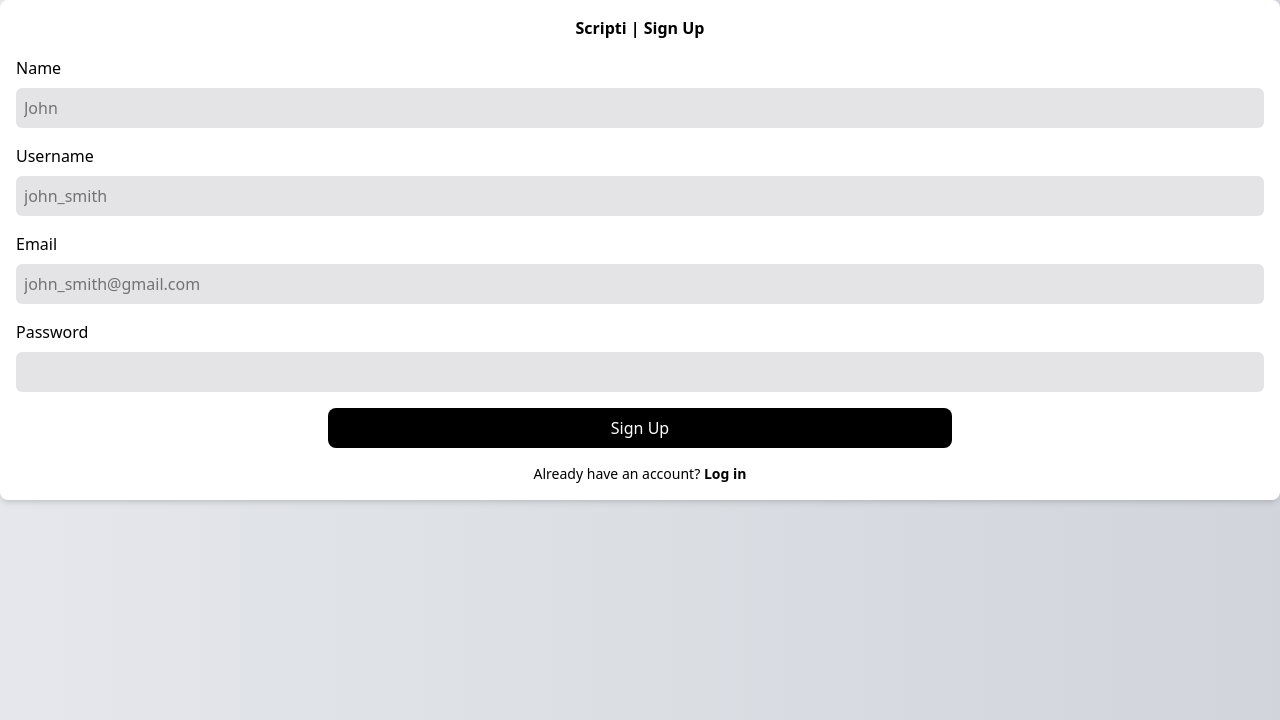
Scenario: signup page: messages › should display error message for missing fields
The width and height of the screenshot is (1280, 720).
Click the button "Sign Up": click(640, 428) x1=328 y1=408 x2=952 y2=448
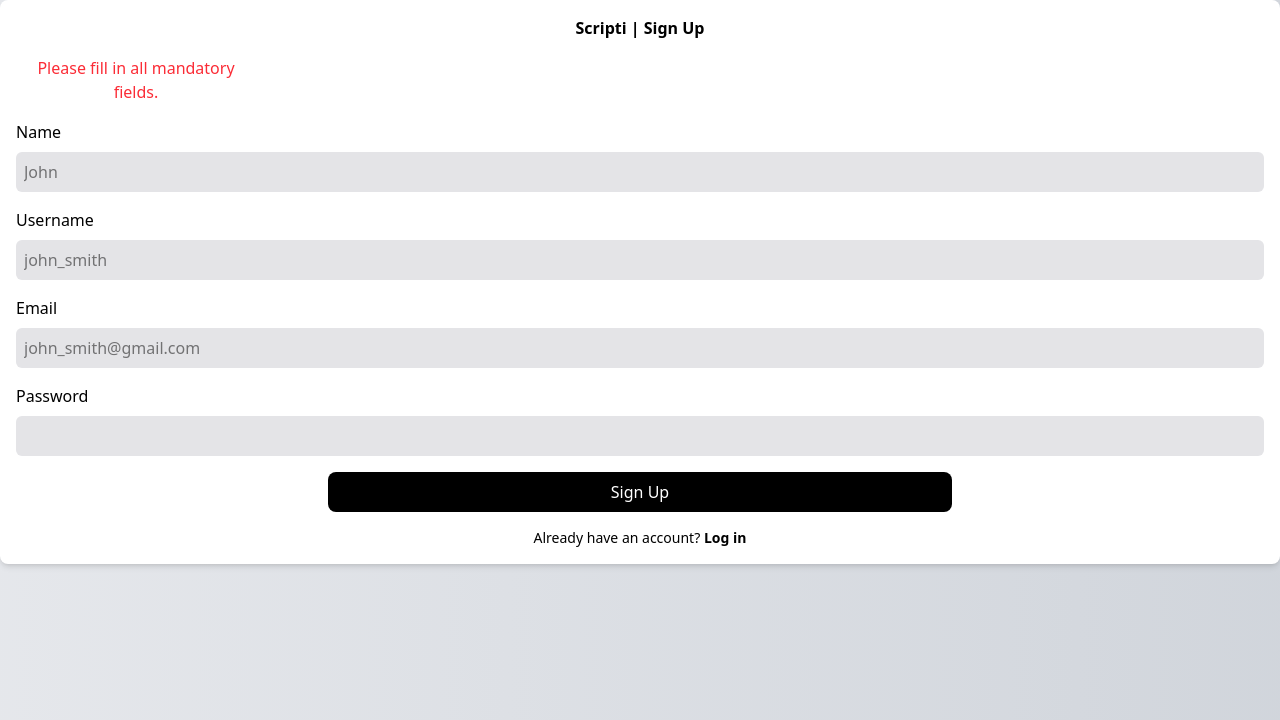
Expected: the text "Please fill in all mandatory fields." is shown, x1=37 y1=57 x2=234 y2=103
